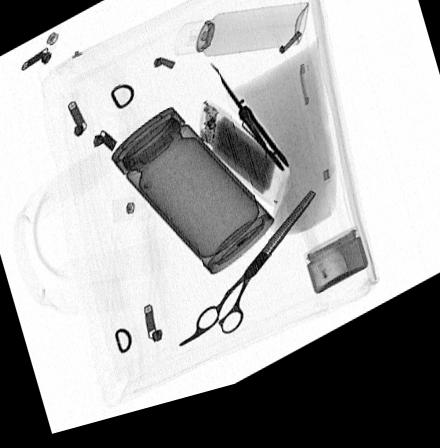Knife: (213, 74, 292, 189)
Powerbank: (195, 109, 291, 223)
Scissors: (180, 204, 319, 356)
Sprayer: (176, 18, 311, 67)
